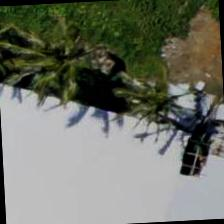Kelapa_Sawit: (5, 20, 100, 114)
